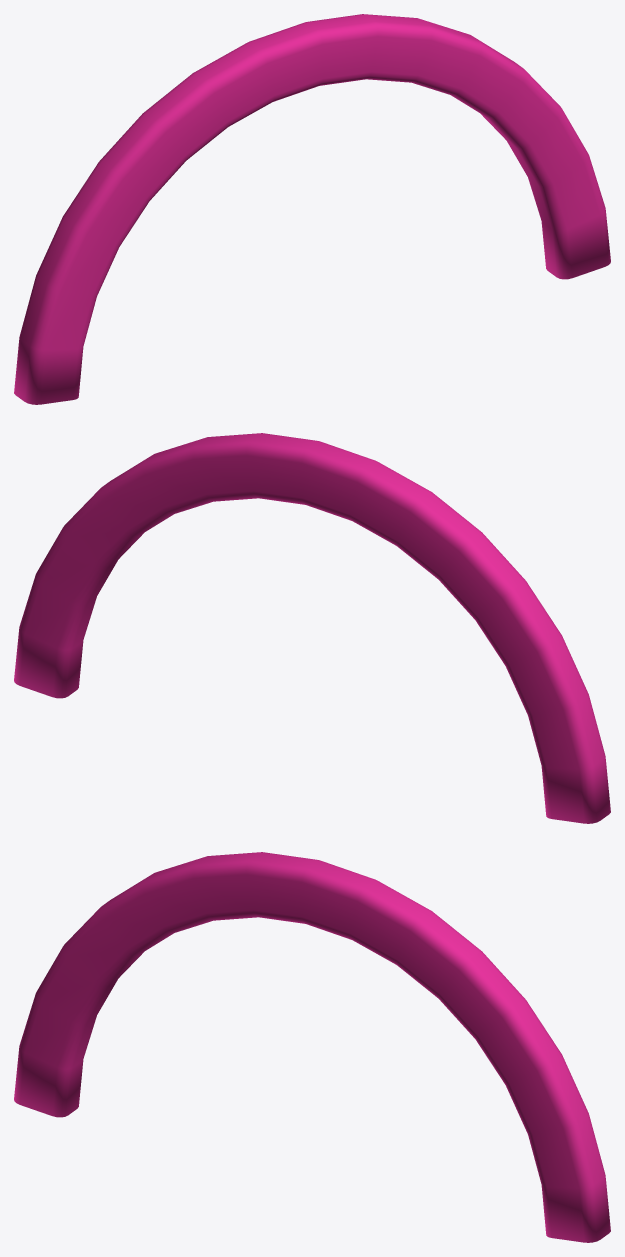
File: checkpoint.fbx
The picture shows the model from 3 angles, top to bottom: view 1: azimuth 30°, elevation 25°; view 2: azimuth 150°, elevation 25°; view 3: azimuth 330°, elevation 25°; orthographic projection.
Visible parts, largest first — view 1: Cylinder; view 2: Cylinder; view 3: Cylinder.
Part boxes in pixels (x1,y1,x2,y2): Cylinder: [14, 14, 610, 404]; Cylinder: [14, 433, 610, 823]; Cylinder: [14, 852, 610, 1242].
Size of the model in its own units: 244 by 122 by 14.98.
Materials: 1 (1 with a texture image).
